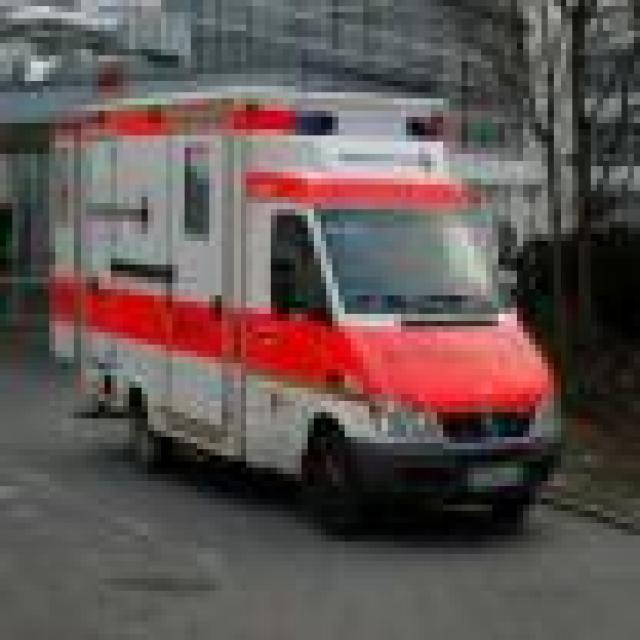emergency-vehicle: (46, 83, 563, 532)
